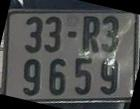-: (68, 31, 76, 37)
3: (27, 16, 42, 53), (103, 16, 118, 53), (46, 17, 61, 52)
5: (75, 58, 92, 94)
6: (50, 59, 65, 94)
9: (101, 58, 118, 93), (24, 59, 40, 95)
R: (83, 16, 98, 53)
